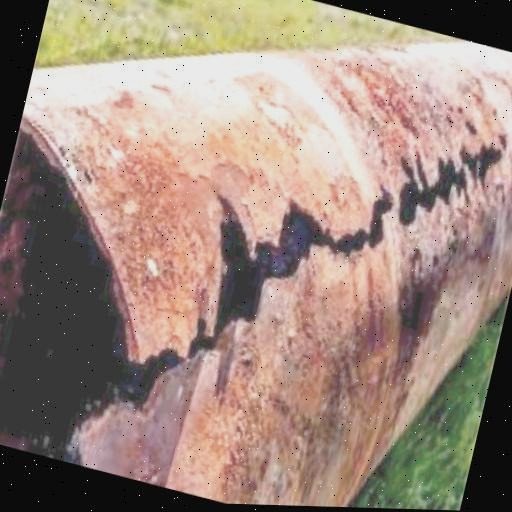corrosion: (0, 180, 239, 250)
crack: (110, 157, 398, 480), (246, 130, 422, 370), (354, 114, 463, 338)
